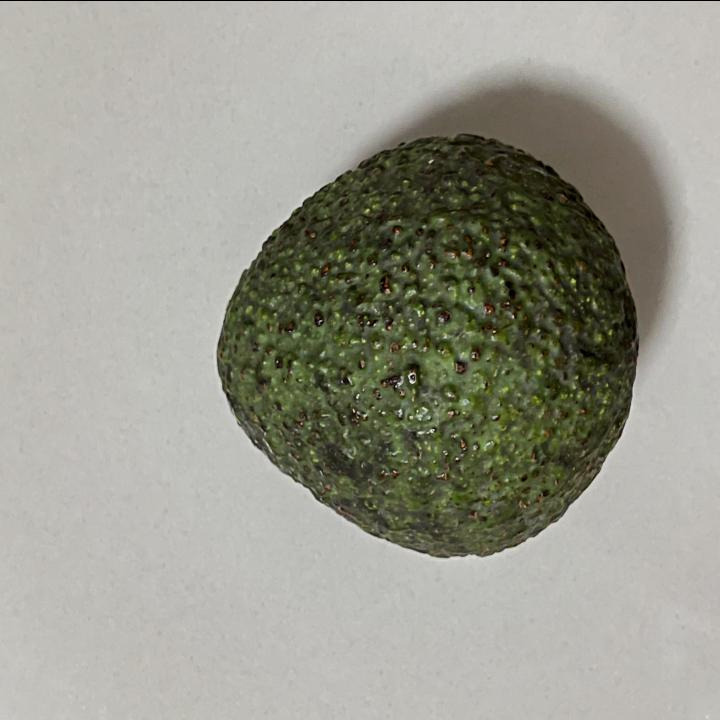Level1: (197, 121, 650, 573)
